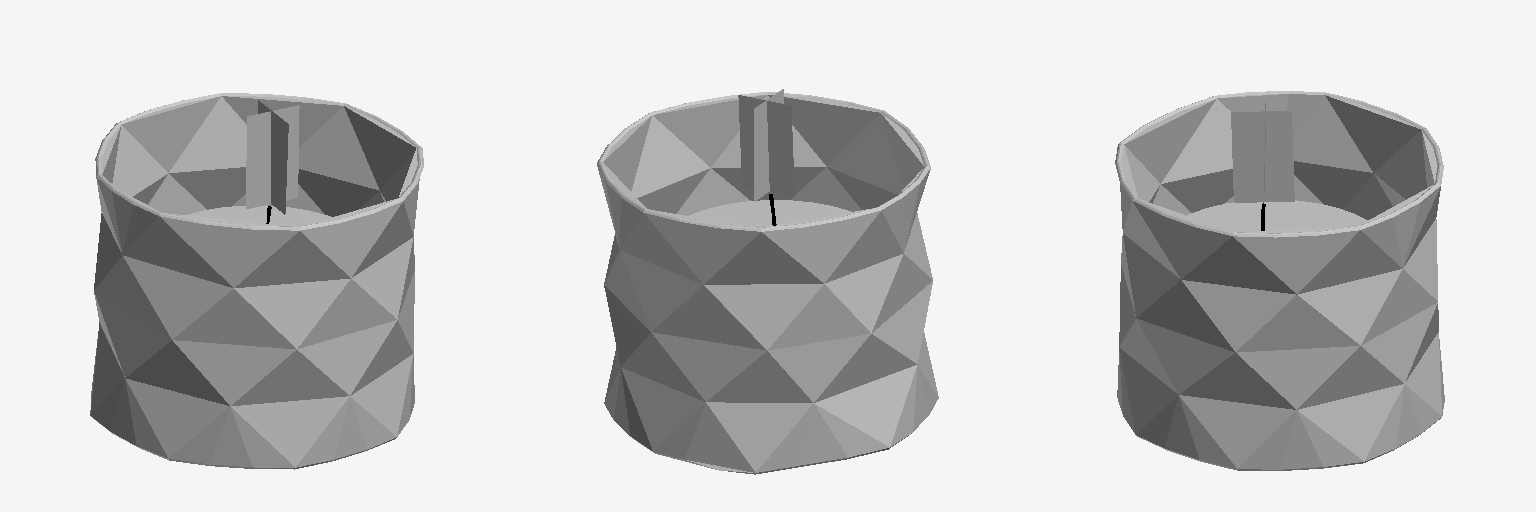
The model's file is square03.obj.
3 renders of one model, left to right at view 1: azimuth 30°, elevation 25°; view 2: azimuth 150°, elevation 25°; view 3: azimuth 270°, elevation 25°, orthographic.
Parts seen in each view (by area): view 1: 円柱.006, 円柱.008; view 2: 円柱.006, 円柱.008; view 3: 円柱.006, 円柱.008.
Boxes of the visible parts, x1=… form: 円柱.006: x1=90, y1=93, x2=423, y2=469; 円柱.008: x1=187, y1=100, x2=331, y2=226; 円柱.006: x1=597, y1=92, x2=938, y2=474; 円柱.008: x1=689, y1=89, x2=850, y2=227; 円柱.006: x1=1115, y1=91, x2=1444, y2=470; 円柱.008: x1=1187, y1=103, x2=1367, y2=231.
Size of the model in its own units: 1.37 by 1.35 by 1.35.